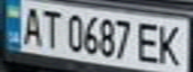0: (60, 11, 84, 53)
6: (78, 14, 100, 56)
7: (112, 17, 136, 61)
8: (97, 15, 118, 57)
A: (18, 2, 45, 47)
E: (133, 19, 163, 64)
K: (154, 20, 187, 68)
T: (36, 7, 63, 48)
